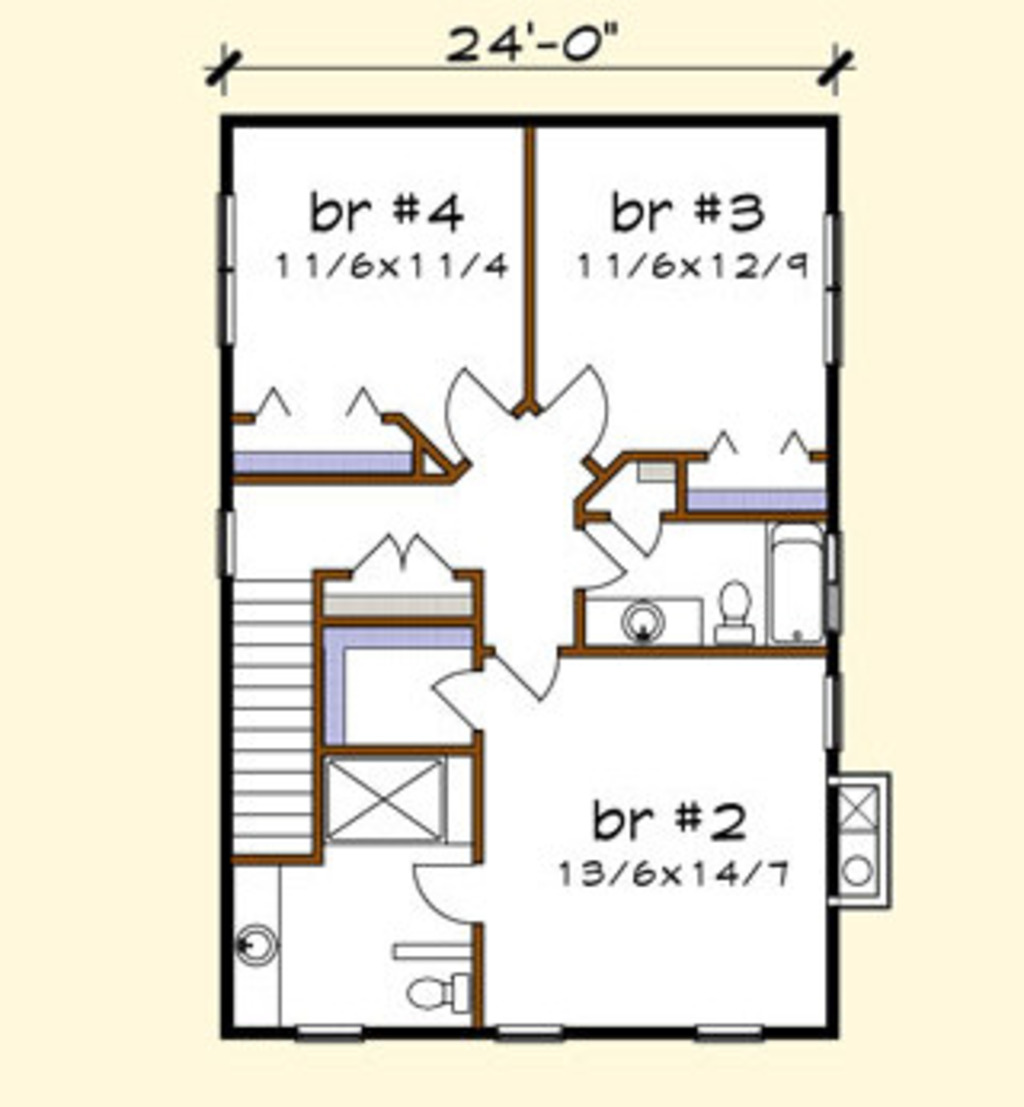door: (421, 351, 536, 468), (336, 511, 468, 587), (534, 356, 614, 460), (495, 634, 577, 711), (407, 670, 490, 731), (407, 865, 489, 923), (604, 500, 670, 563), (570, 529, 626, 590)
large_sink: (397, 963, 477, 1023), (704, 568, 758, 646)
small_sink: (231, 903, 282, 999), (590, 602, 692, 641)
stairs: (236, 572, 321, 873)
tub: (766, 528, 822, 641)
window: (812, 214, 844, 363), (219, 190, 241, 345), (692, 1019, 773, 1046), (297, 1017, 365, 1045), (492, 1021, 563, 1043), (824, 677, 841, 753)
